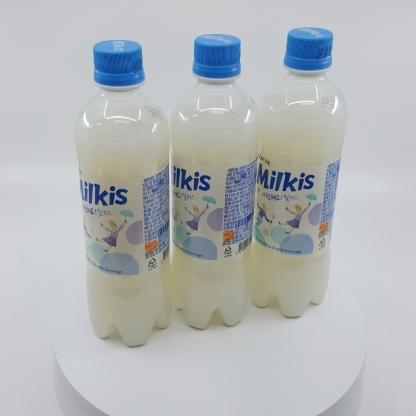-----500ML: (74, 40, 173, 346), (249, 27, 348, 317), (169, 34, 261, 329)
